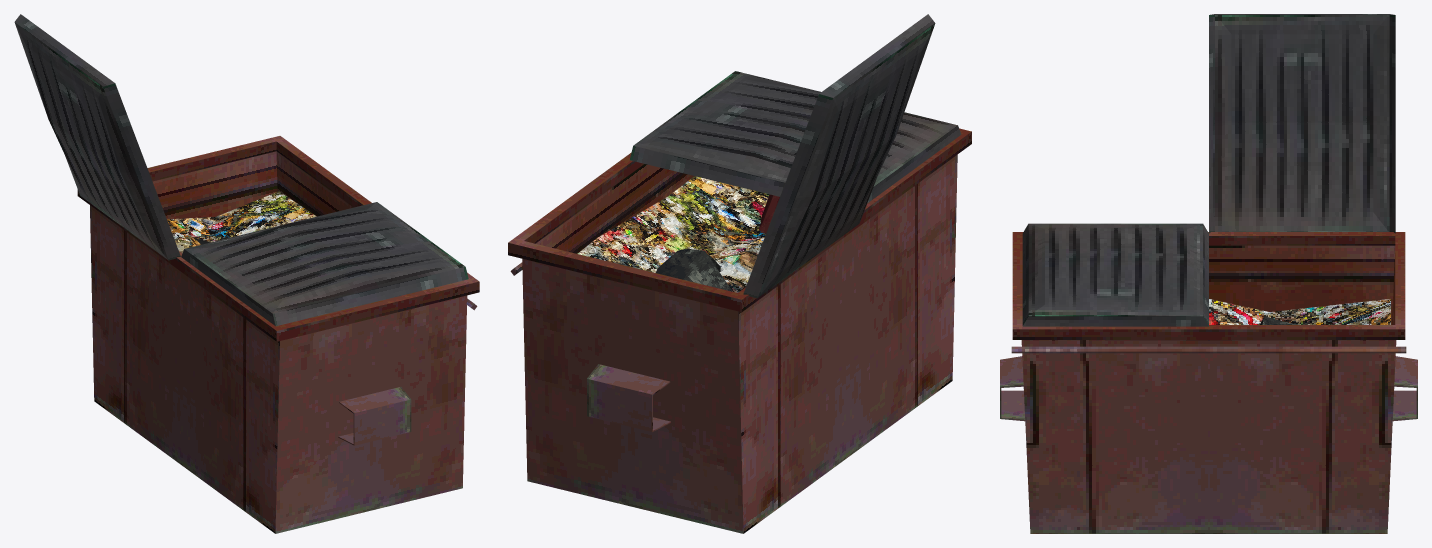
Rendered from dumpster_full_lid_open_red.glb.
3 renders of one model, left to right at view 1: azimuth 30°, elevation 25°; view 2: azimuth 150°, elevation 25°; view 3: azimuth 270°, elevation 25°, orthographic. The views are drawn at different scales.
Visible parts, largest first — view 1: dumpster_full_lid_open_red; view 2: dumpster_full_lid_open_red; view 3: dumpster_full_lid_open_red.
Boxes of the visible parts, <box> form: dumpster_full_lid_open_red: <box>14,14,479,533</box>; dumpster_full_lid_open_red: <box>508,14,971,533</box>; dumpster_full_lid_open_red: <box>1000,14,1417,533</box>.
Size of the model in its own units: 2.74 by 3.84 by 3.67.
Materials: 3 (3 with a texture image).
